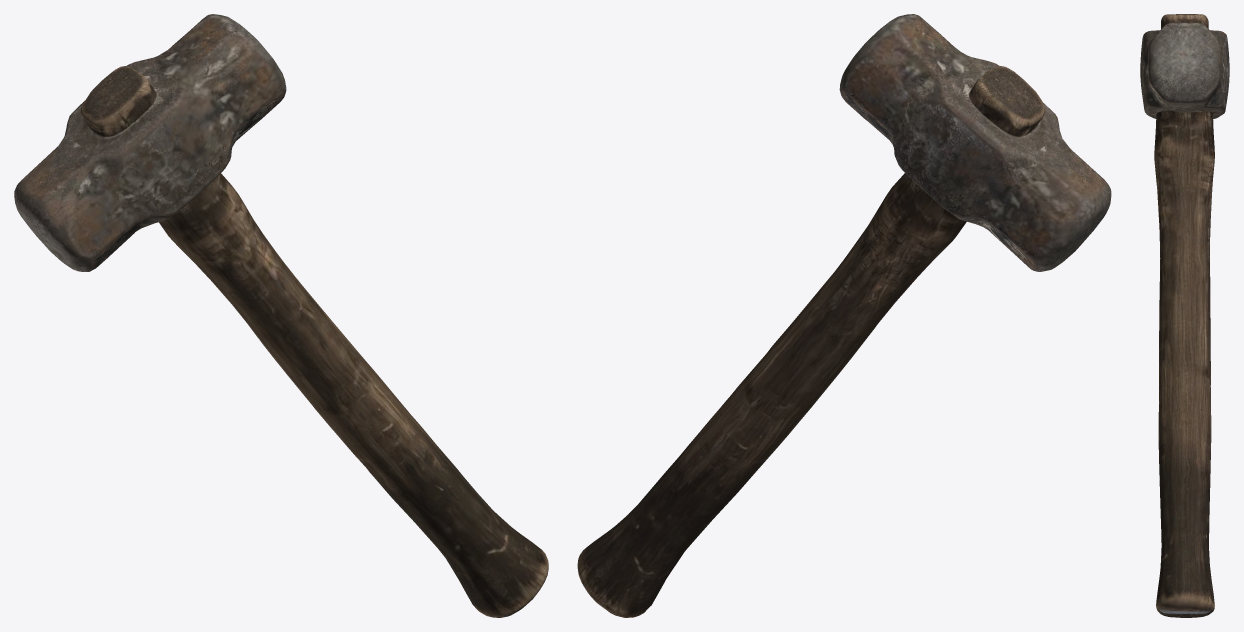
Rendered from sledgehammer.f792eed9.glb.
The picture shows the model from 3 angles, left to right: view 1: azimuth 30°, elevation 25°; view 2: azimuth 150°, elevation 25°; view 3: azimuth 270°, elevation 25°; orthographic projection. The views are drawn at different scales.
Bounding box in the file's own units: 1.57 × 1.9 × 0.3103.
1 material, 1 textured.
